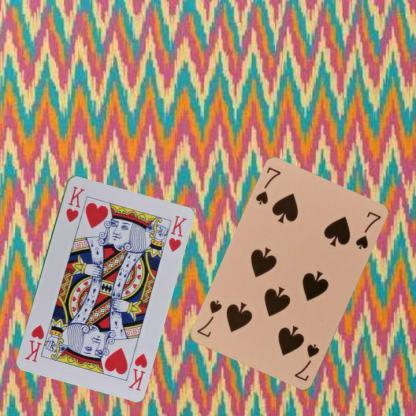7s: (253, 165, 283, 206), (292, 342, 321, 383)
Kh: (63, 183, 86, 224), (126, 350, 148, 392)
